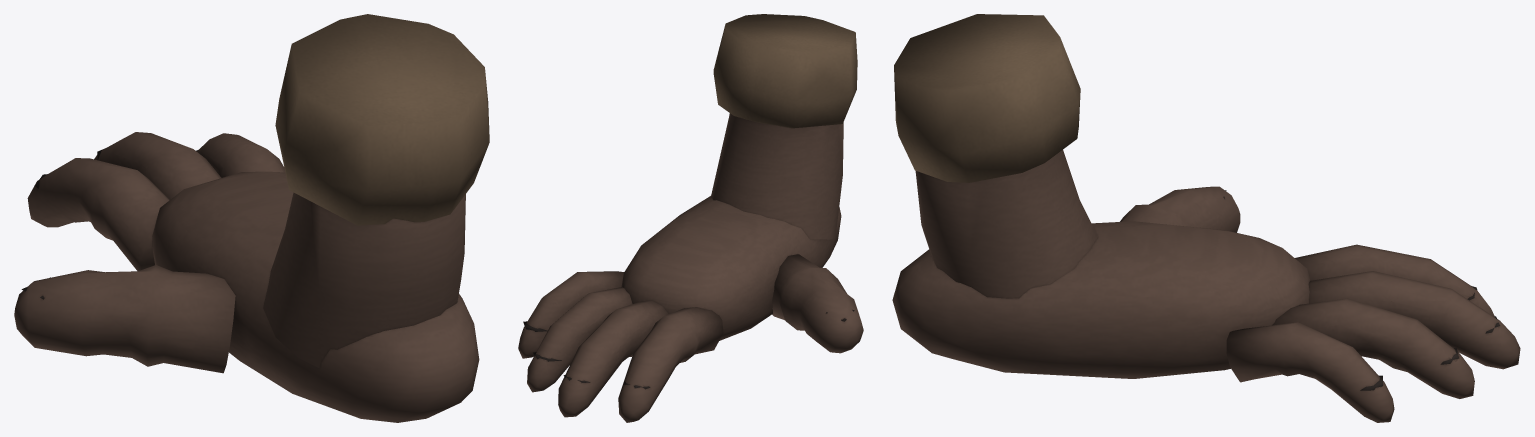
The model's file is cpart_foot_primate.glb.
3 views of the same model, side by side, from view 1: azimuth 30°, elevation 25°; view 2: azimuth 150°, elevation 25°; view 3: azimuth 270°, elevation 25° (orthographic). The views are drawn at different scales.
Parts seen in each view (by area): view 1: FootPrimate, Cuff; view 2: FootPrimate, Cuff, Nails; view 3: FootPrimate, Cuff.
Part boxes in pixels (x1,y1,x2,y2): FootPrimate: (14, 132, 479, 422); Cuff: (275, 14, 489, 225); FootPrimate: (518, 113, 863, 422); Cuff: (713, 14, 857, 128); Nails: (523, 310, 854, 389); FootPrimate: (892, 150, 1520, 422); Cuff: (894, 14, 1080, 182).
Bounding box in the file's own units: 0.0968 × 0.0836 × 0.1484.
Materials: 3 (3 with a texture image).
